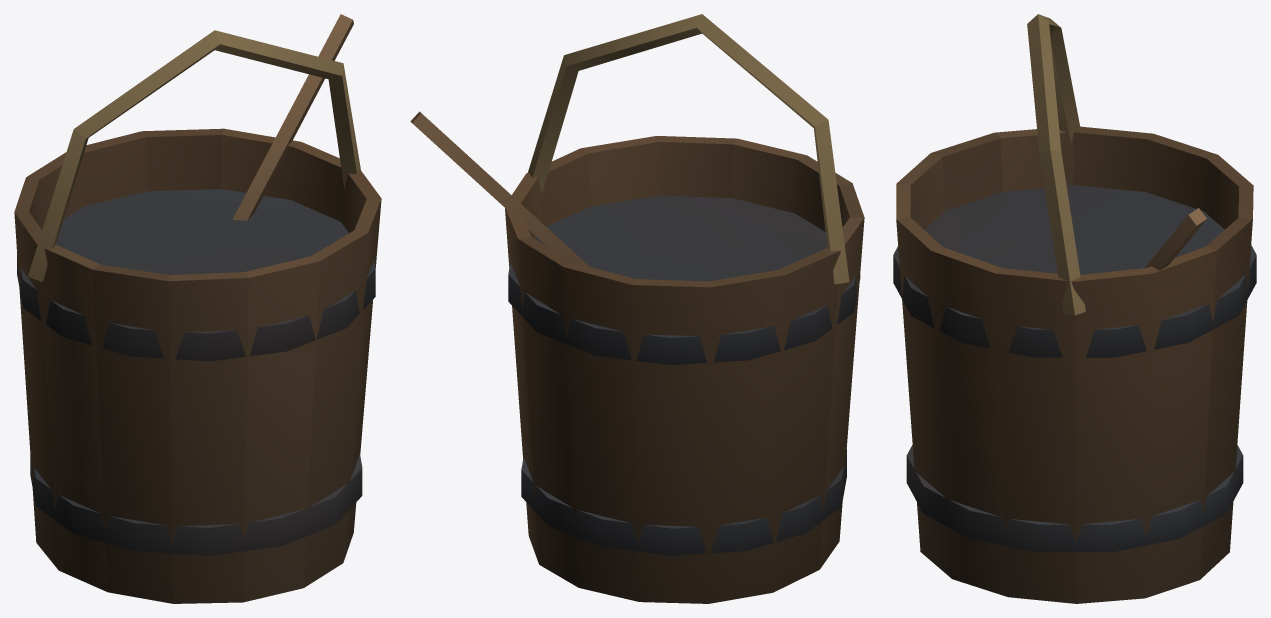
Rendered from ph_int_bucket.glb.
3 views of the same model, side by side, from view 1: azimuth 30°, elevation 25°; view 2: azimuth 150°, elevation 25°; view 3: azimuth 270°, elevation 25° (orthographic). The views are drawn at different scales.
Visible parts, largest first — view 1: ph_int_bucket; view 2: ph_int_bucket; view 3: ph_int_bucket.
Boxes of the visible parts, left/top/right/bottom form: ph_int_bucket: left=14, top=14, right=381, bottom=603; ph_int_bucket: left=410, top=14, right=864, bottom=603; ph_int_bucket: left=893, top=14, right=1256, bottom=603.
Bounding box in the file's own units: 0.3646 × 0.4711 × 0.296.
